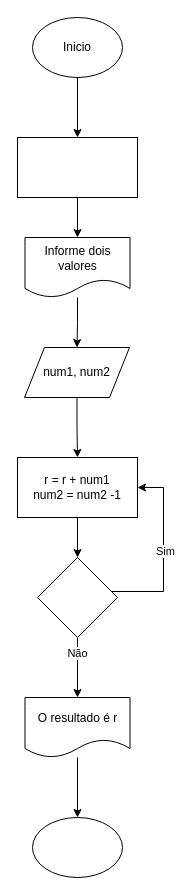
Some shapes in this 192 by 895 pixel diagram are drawn without their labels. Each missing label, with the centre of its shape:
Fim: the point at 77,847
num2>0: the point at 77,597
r = 0: the point at 77,167
